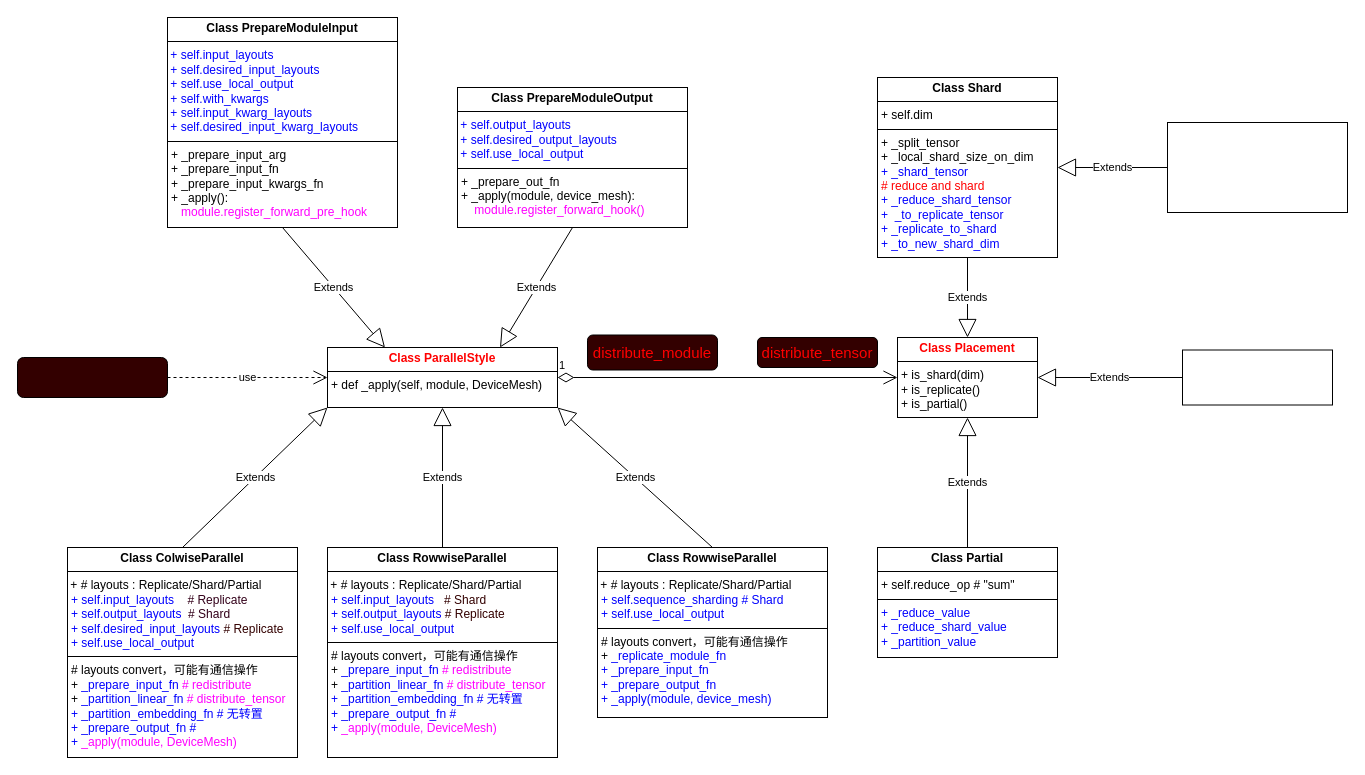
Some shapes in this 1365 by 775 pixel diagram are drawn without their labels. Each missing label, with the box of its shape:
Class _StridedShard + self.split_factor + _split_tensor + _to_replicate_tensor: (1166, 122, 1348, 212)
Class Replicate + _replicate_tensor: (1182, 349, 1332, 405)
parallelize_module: (16, 356, 168, 398)
